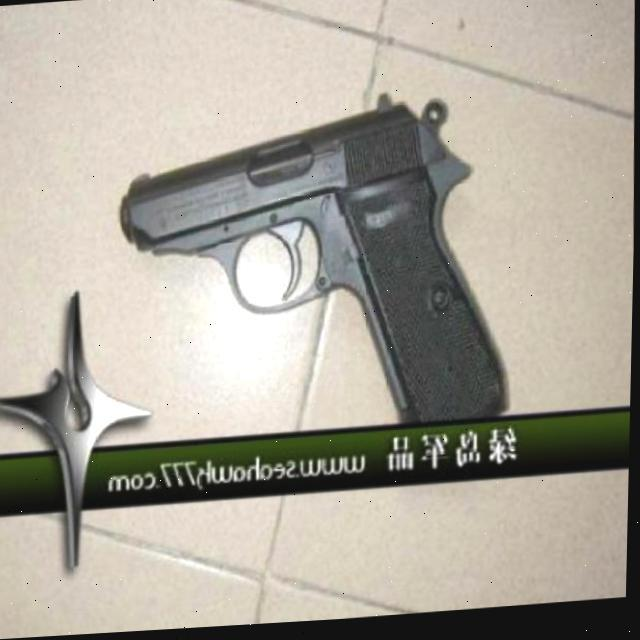gun: (112, 53, 518, 450)
